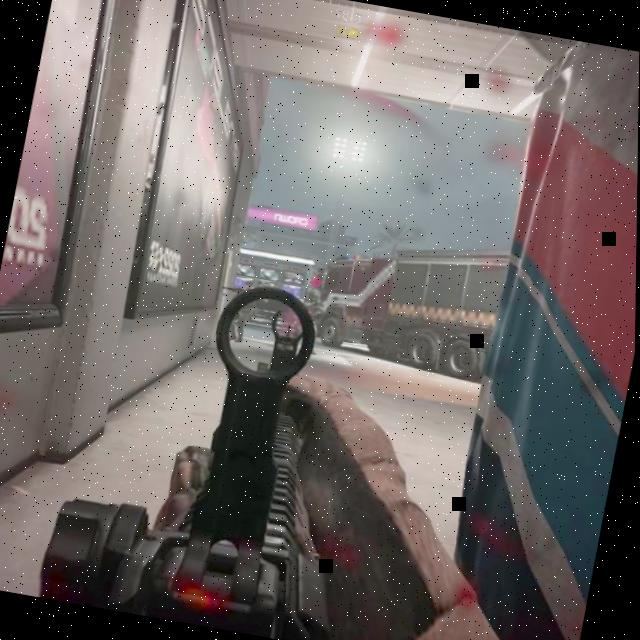MW2_body: (294, 272, 328, 338), (223, 280, 258, 344)
